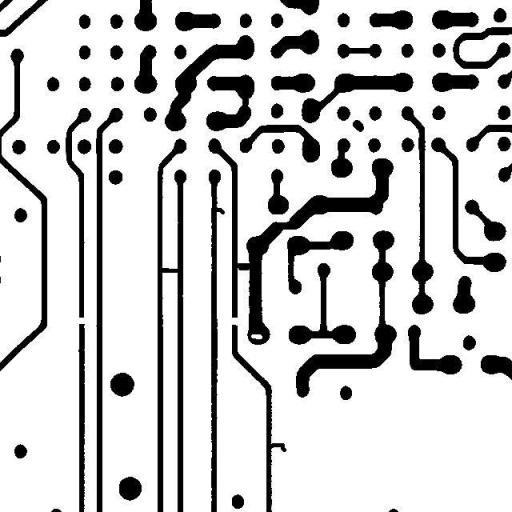copper: (345, 112, 371, 139)
open: (219, 310, 248, 332), (67, 310, 92, 331)
pin-hole: (243, 326, 270, 346)
short: (339, 40, 380, 61), (150, 260, 187, 280), (228, 255, 258, 278), (234, 90, 256, 115)
spur: (260, 435, 294, 459), (204, 200, 232, 222)
